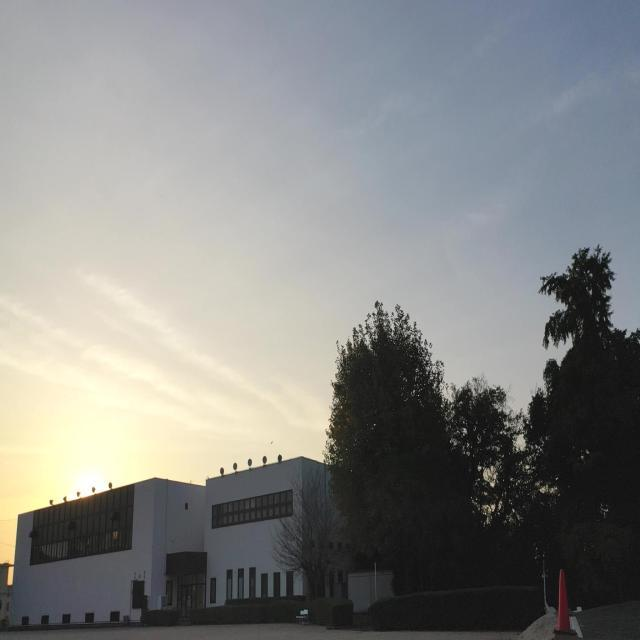Birds: (269, 438, 275, 446)
